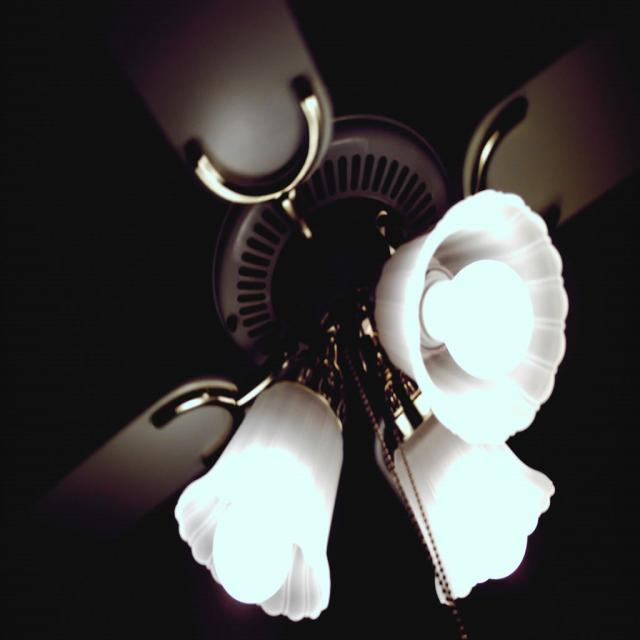bulb_on: (442, 250, 536, 381), (210, 506, 298, 610), (495, 524, 526, 579)
fan_off: (9, 0, 640, 640)
